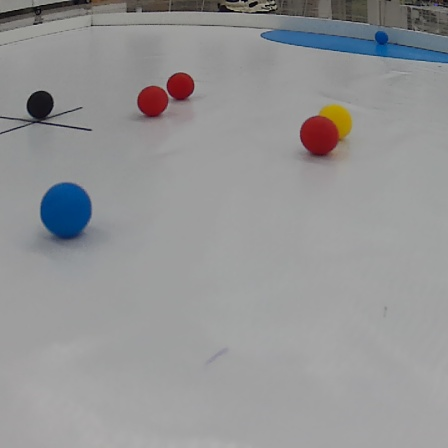black: (25, 88, 54, 116)
blue: (40, 185, 93, 238), (372, 29, 392, 47)
blue_base: (258, 27, 448, 66)
red: (299, 115, 338, 159), (135, 85, 170, 120), (166, 70, 195, 103)
yellow: (324, 102, 357, 136)
